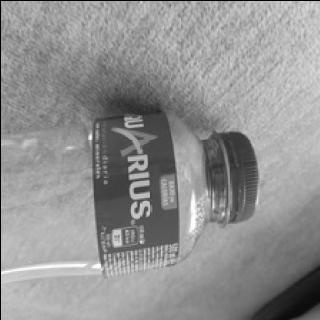plastic_bottles: (0, 113, 260, 265)
